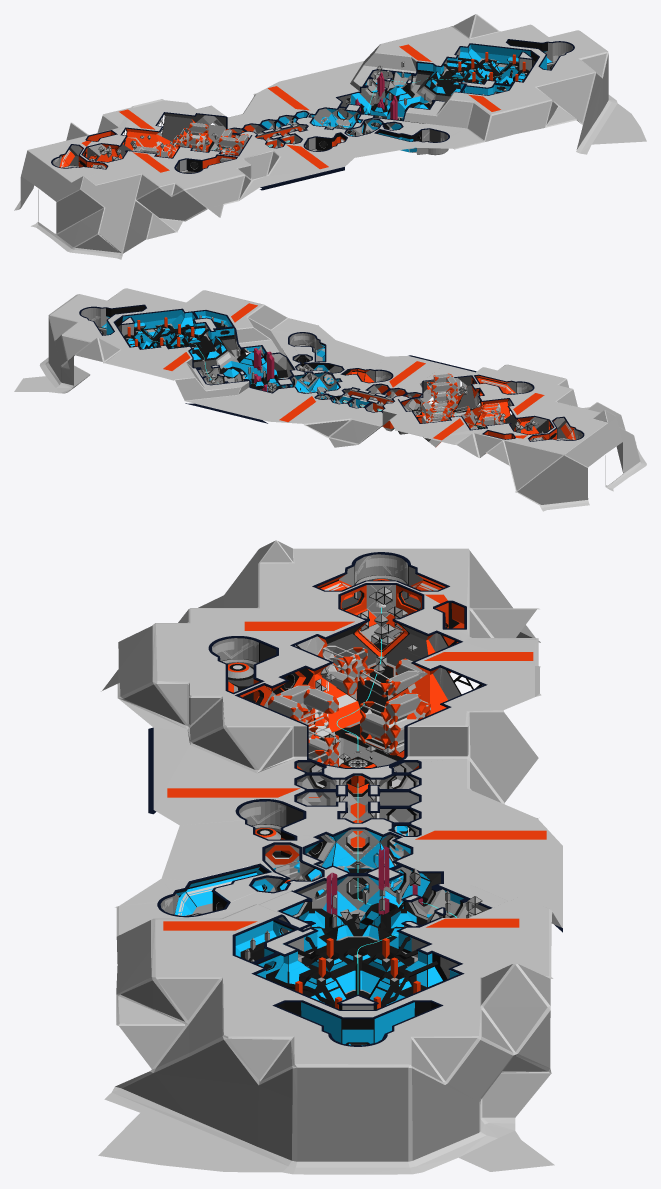
Rendered from fission.glb.
3 renders of one model, top to bottom at view 1: azimuth 30°, elevation 25°; view 2: azimuth 150°, elevation 25°; view 3: azimuth 270°, elevation 25°, orthographic. The views are drawn at different scales.
Parts seen in each view (by area): view 1: fission; view 2: fission; view 3: fission.
Boxes of the visible parts, box(x1,y1,x2,y2) form: fission: box(14, 14, 646, 259); fission: box(14, 288, 646, 511); fission: box(98, 540, 562, 1174).
Size of the model in its own units: 222 by 24.47 by 79.67.
